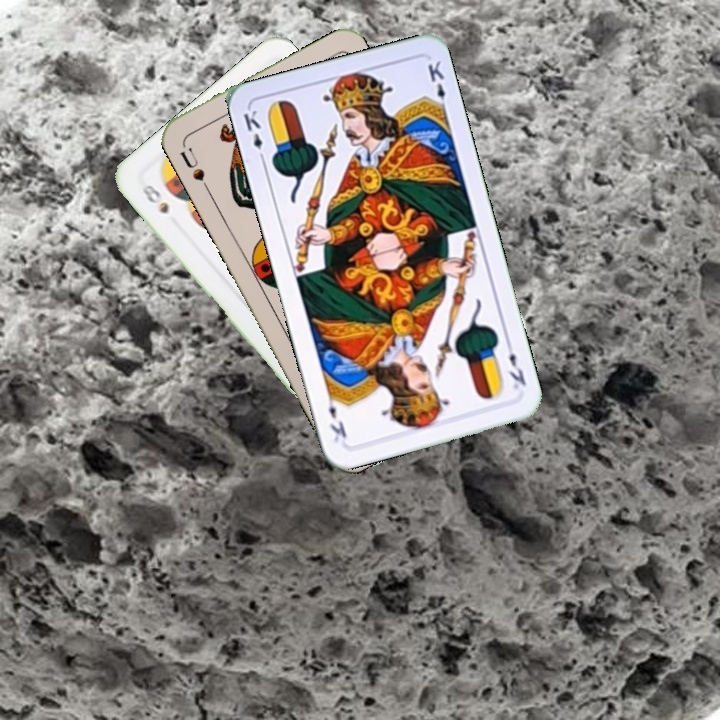EK: (239, 106, 268, 165), (502, 337, 529, 392)
S8: (137, 180, 172, 217)
SU: (176, 143, 213, 194)
